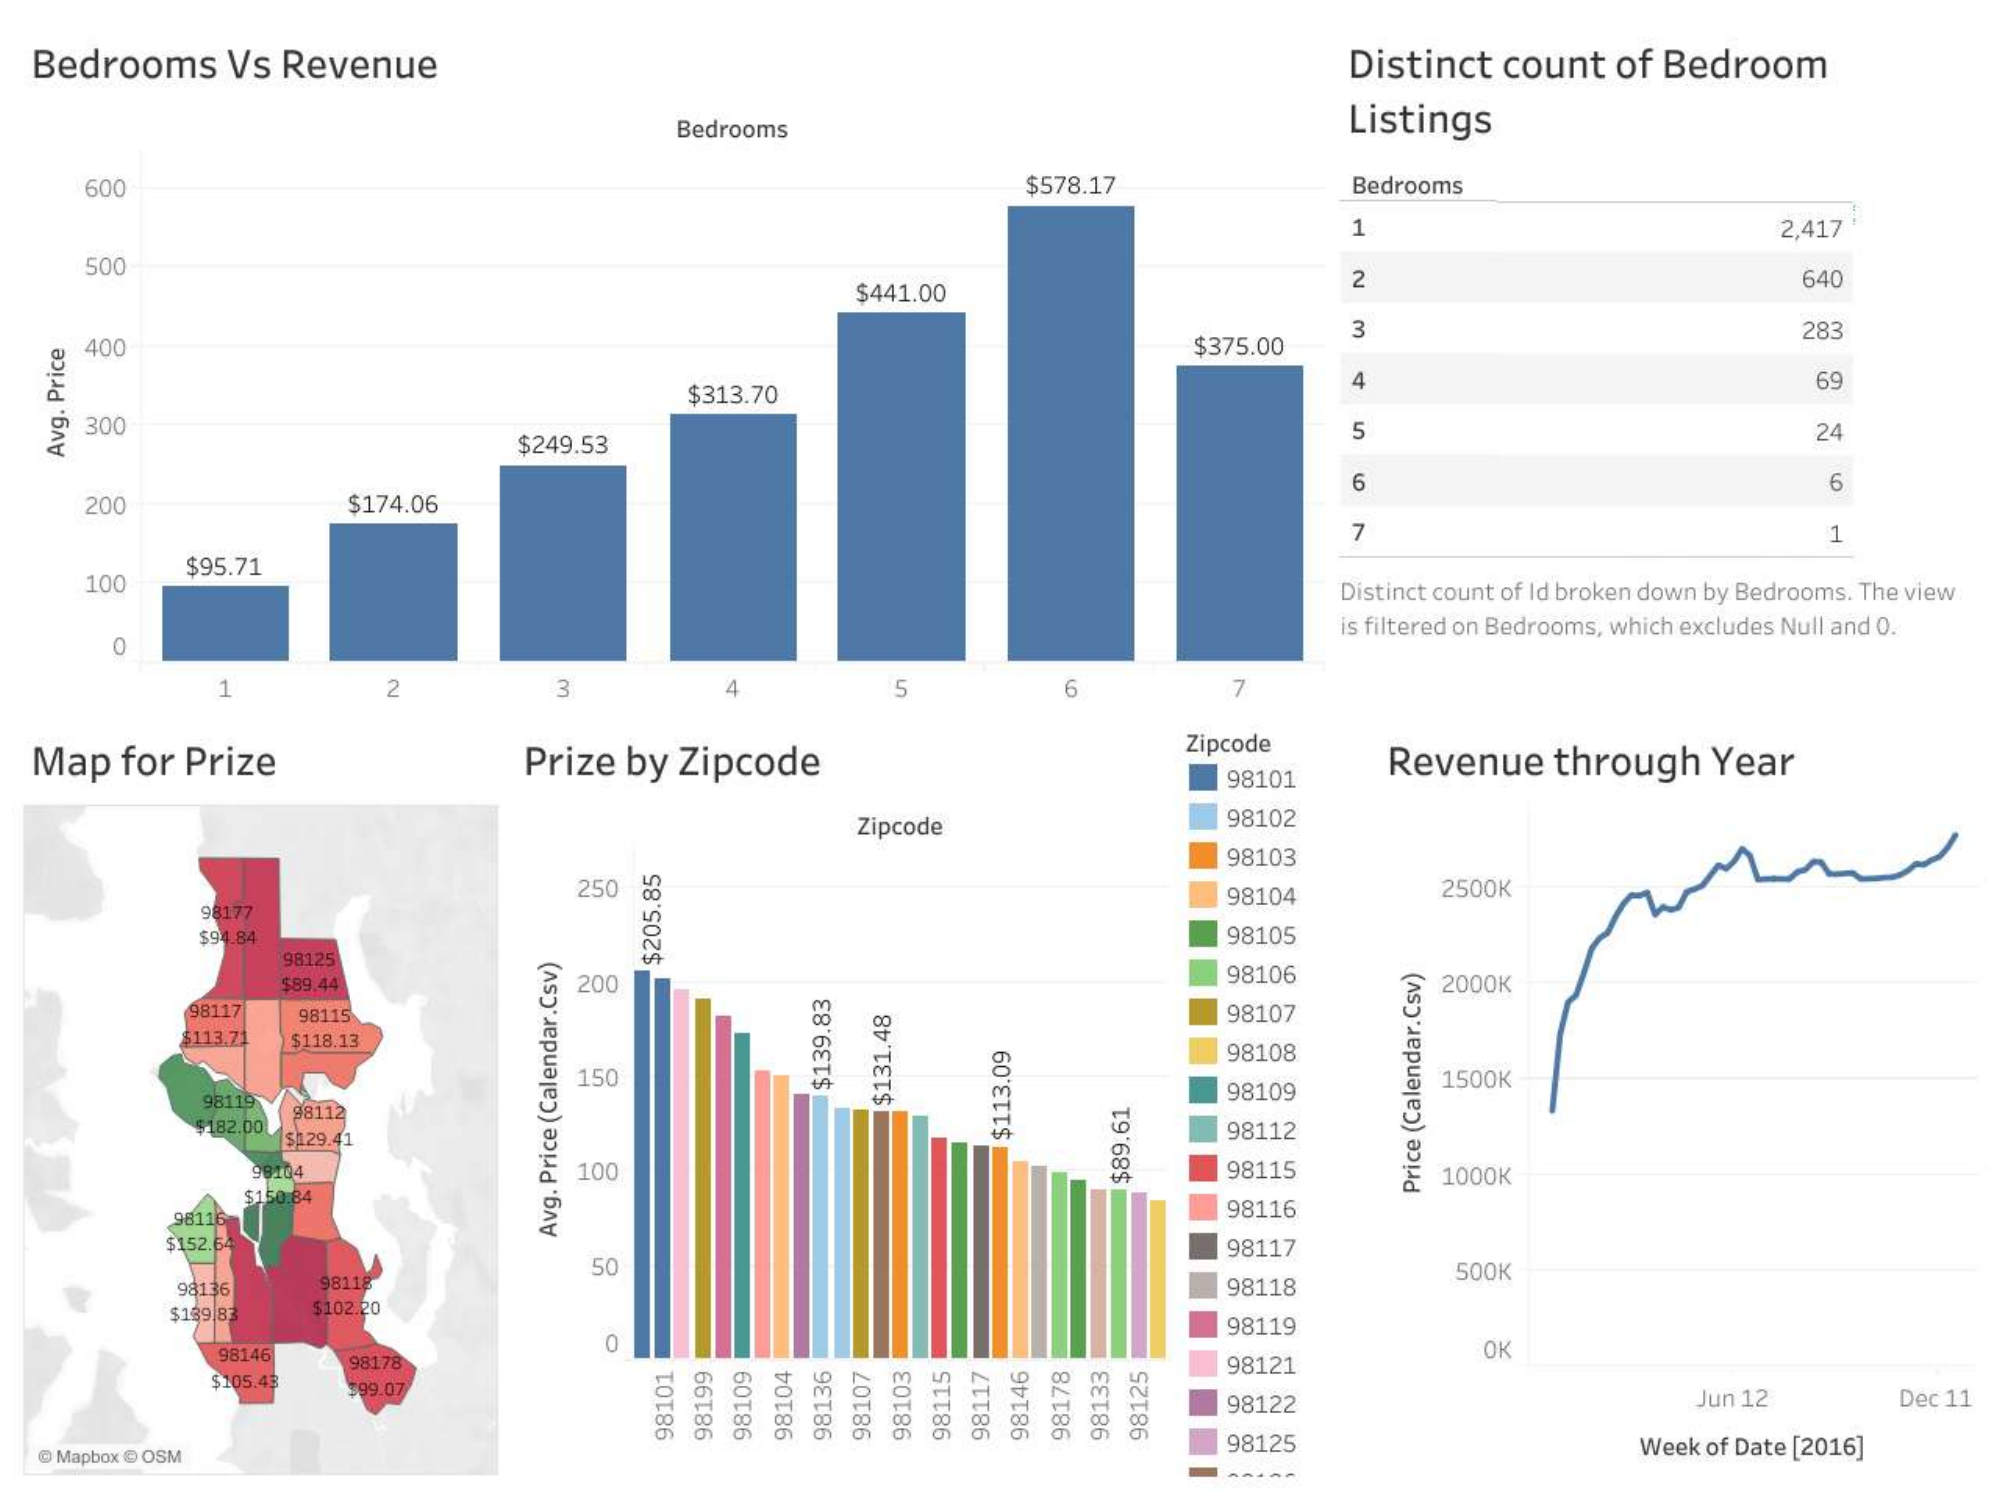

This screenshot's page, from the dashboard's own definition file:
{"tool":"tableau","page":{"name":"Dashboard 1","canvas":[1024,768],"ordinal":0},"visuals":[{"type":"worksheet","title":"Bedrooms vs Revenue","mark":"Automatic","rows":["price"],"cols":["bedrooms"],"box":[8,8,674,357]},{"type":"worksheet","title":"Count of Bedroom List","mark":"Automatic","rows":["bedrooms"],"box":[682,8,334,357]},{"type":"worksheet","title":"Map for Prize","mark":"Multipolygon","box":[8,365,252,395]},{"type":"worksheet","title":"Prize by Zipcode","mark":"Automatic","rows":["price (calendar.csv)"],"cols":["zipcode"],"box":[260,365,342,395]},{"type":"legend","title":"Prize by Zipcode","param":"[federated.0aq512a1kne04416lxmad1bg9jbg].[none:zipcode:ok]","box":[602,365,100.2,395]},{"type":"worksheet","title":"Revenue","mark":"Automatic","rows":["price (calendar.csv)"],"cols":["date"],"box":[702.2,365,313.8,395]}]}

Visuals, with their boxes in screenshot pixels (x1, y1, x2, y2), scaled from the page's 1024x768 canvas onto the 1999x1499 screenshot:
"Bedrooms vs Revenue" worksheet: (16,16,1331,712)
"Count of Bedroom List" worksheet: (1331,16,1983,712)
"Map for Prize" worksheet (Multipolygon marks): (16,712,508,1483)
"Prize by Zipcode" worksheet: (508,712,1175,1483)
"Prize by Zipcode" legend: (1175,712,1371,1483)
"Revenue" worksheet: (1371,712,1983,1483)
